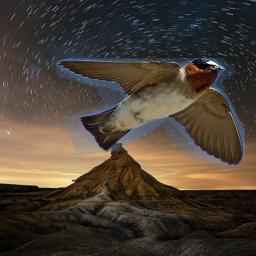Swallow: (56, 58, 245, 167)
